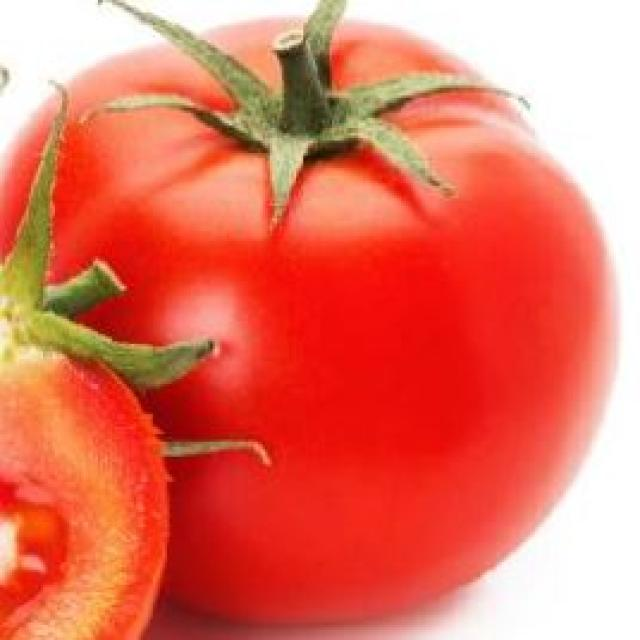Healthy: (1, 19, 608, 617)
